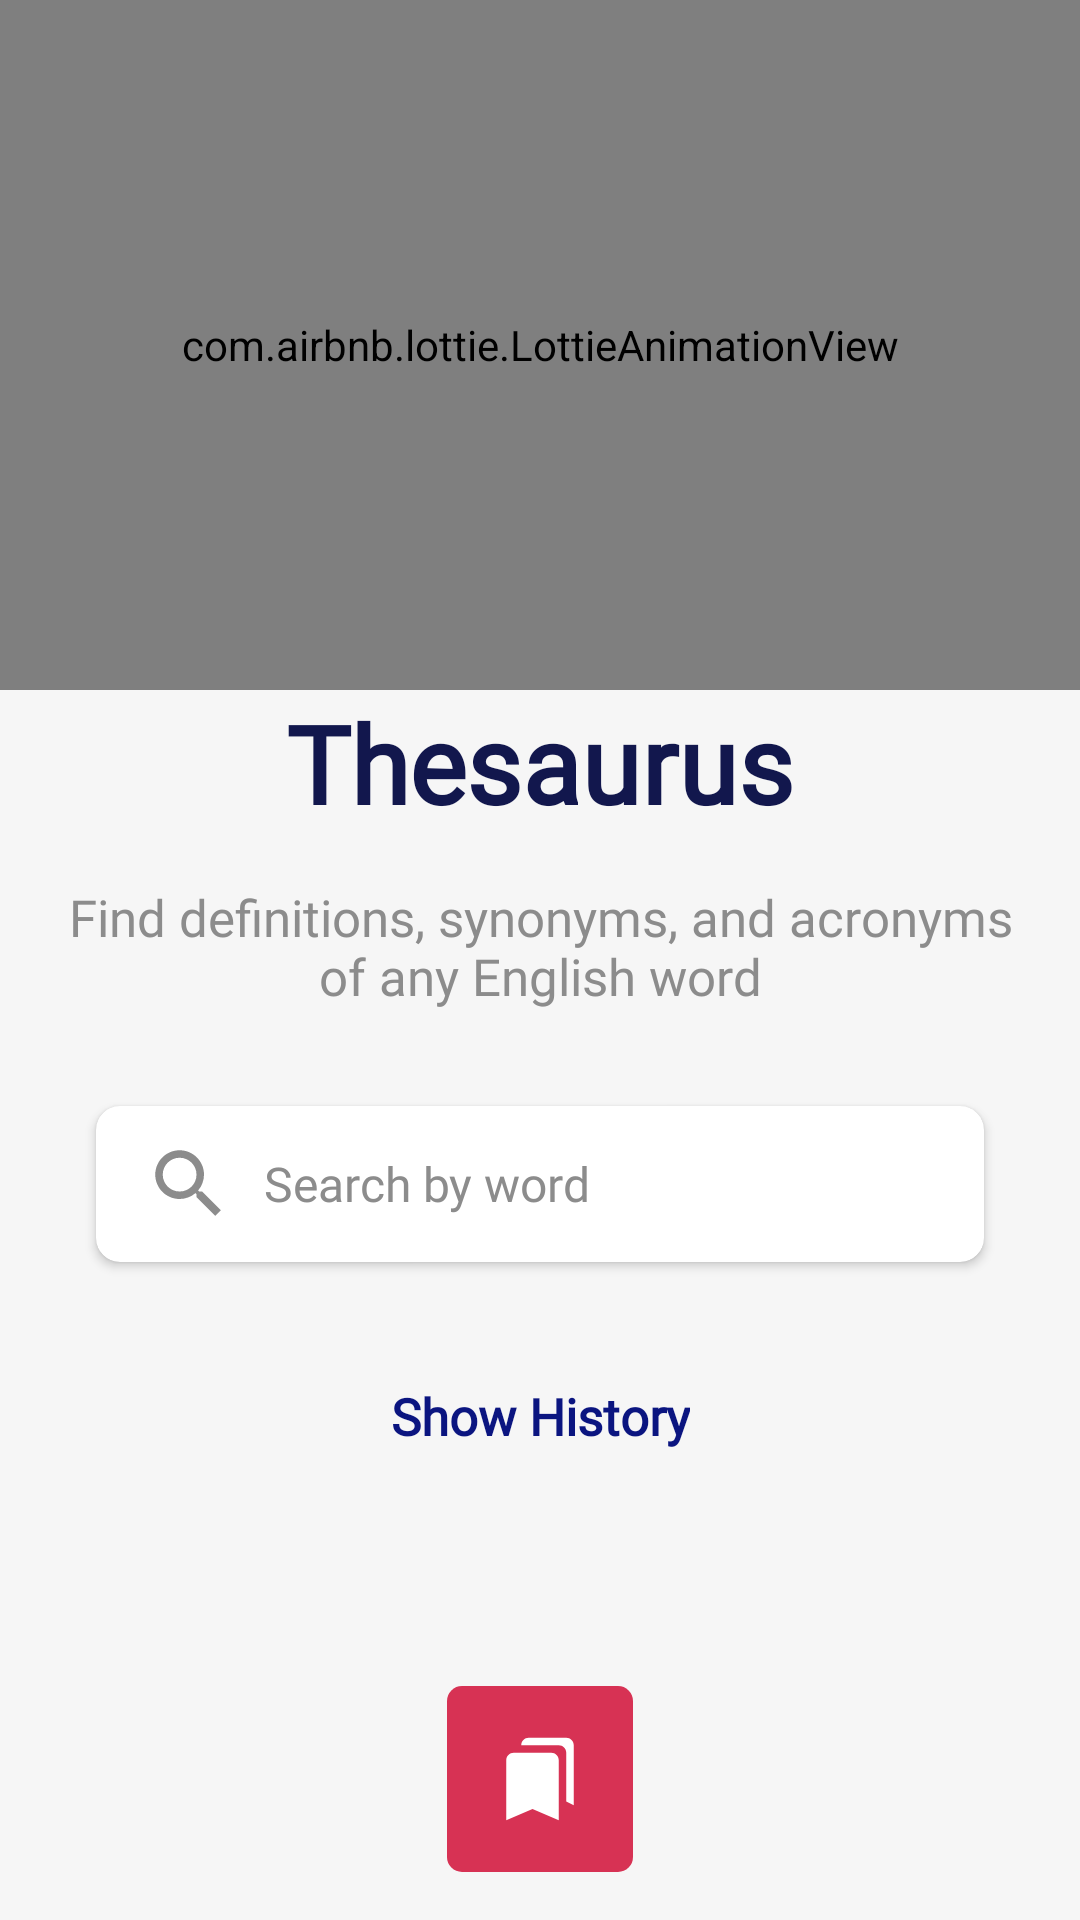

Icons on this 1080px×1920px Android screen, each with the point to tap as (x=x, y=y):
bookmarks: (x=540, y=1779)
